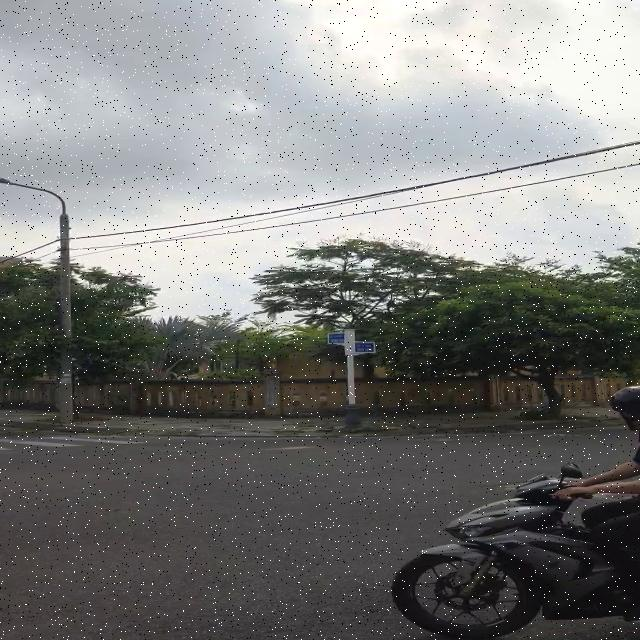helmet: (609, 386, 640, 427)
